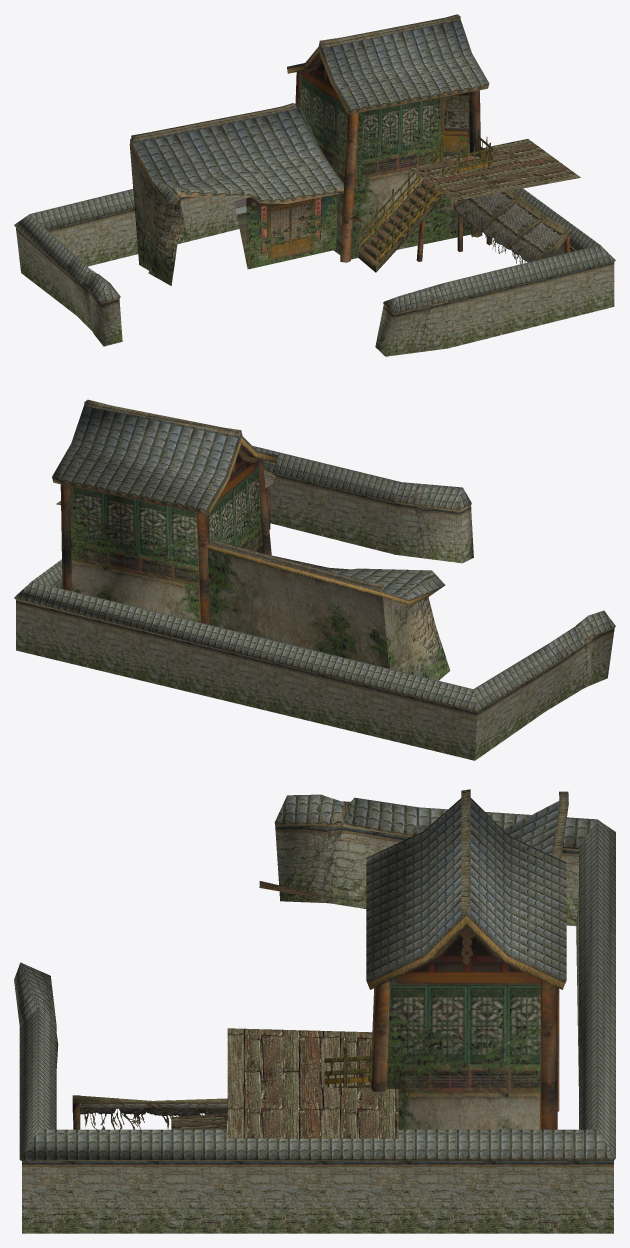
File: cj_inn.glb
3 renders of one model, top to bottom at view 1: azimuth 30°, elevation 25°; view 2: azimuth 150°, elevation 25°; view 3: azimuth 270°, elevation 25°, orthographic. The views are drawn at different scales.
Visible parts, largest first — view 1: cj_inn_roof, cj_inn_wall01, cj_inn_wall, cj_inn_breakewal, cj_inn_fence_a, cj_inn_floor; view 2: cj_inn_roof, cj_inn_wall01, cj_inn_wall, cj_inn_breakewal; view 3: cj_inn_roof, cj_inn_wall, cj_inn_wall01, cj_inn_floor, cj_inn_breakewal, cj_inn_fence_a.
Part boxes in pixels (left/top/right/bottom): cj_inn_roof: left=14, top=14, right=615, bottom=301; cj_inn_wall01: left=234, top=54, right=569, bottom=269; cj_inn_wall: left=16, top=195, right=614, bottom=348; cj_inn_breakewal: left=64, top=146, right=448, bottom=356; cj_inn_fence_a: left=359, top=129, right=569, bottom=272; cj_inn_floor: left=348, top=139, right=580, bottom=223; cj_inn_roof: left=14, top=399, right=558, bottom=712; cj_inn_wall01: left=60, top=444, right=388, bottom=668; cj_inn_wall: left=16, top=473, right=556, bottom=760; cj_inn_breakewal: left=383, top=482, right=615, bottom=711; cj_inn_roof: left=19, top=789, right=615, bottom=1160; cj_inn_wall: left=22, top=849, right=613, bottom=1233; cj_inn_wall01: left=73, top=925, right=559, bottom=1129; cj_inn_floor: left=171, top=881, right=398, bottom=1138; cj_inn_breakewal: left=14, top=794, right=418, bottom=1067; cj_inn_fence_a: left=72, top=1046, right=372, bottom=1129.
Bounding box in the file's own units: 19.8 × 8.23 × 13.75.
6 materials, 6 textured.
